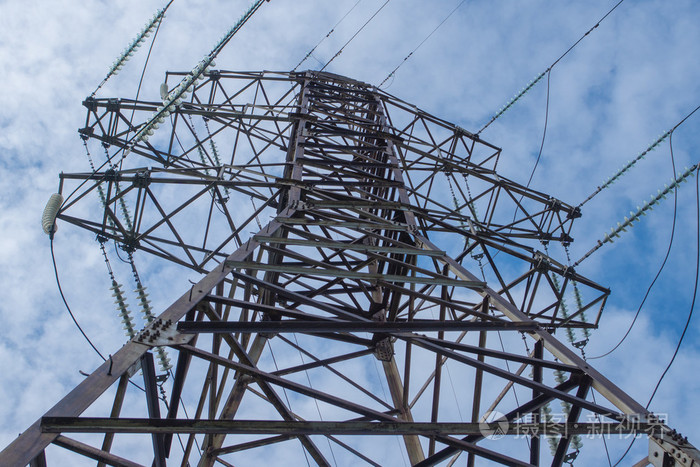insulator: (604, 164, 691, 244), (137, 55, 215, 139), (110, 284, 173, 374), (110, 9, 166, 74), (40, 191, 64, 235)
